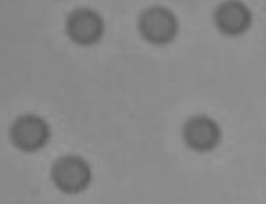cell: (57, 5, 110, 53), (5, 107, 54, 157), (131, 3, 181, 50), (46, 151, 95, 198), (176, 110, 225, 156), (208, 1, 255, 40)
